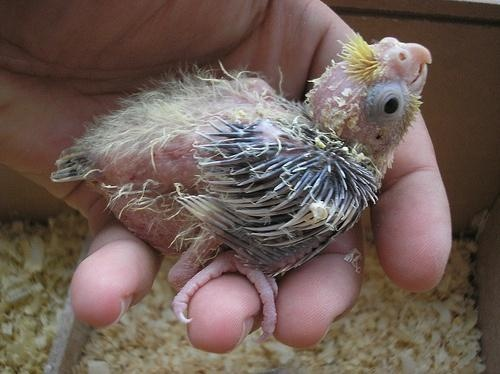bird: (50, 36, 435, 345)
